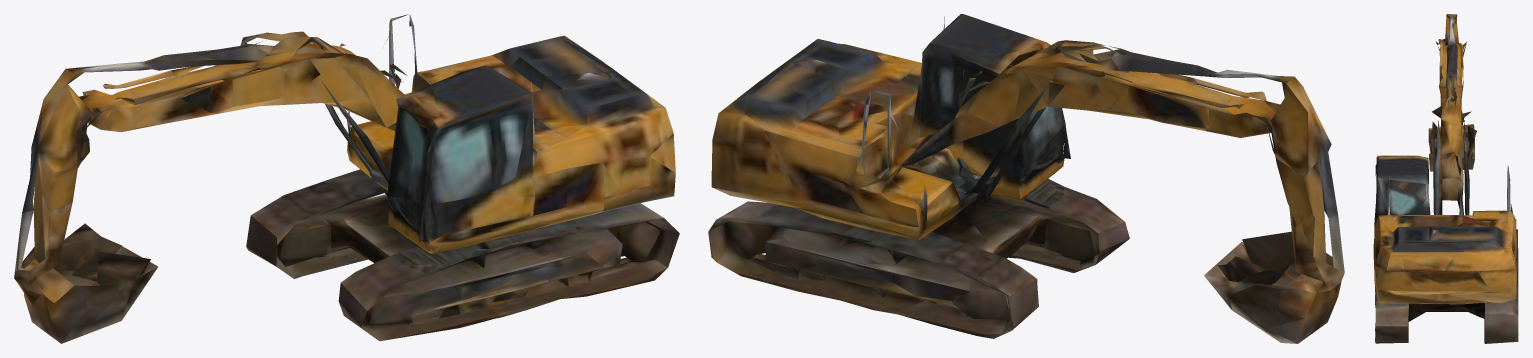
The model's file is excavator_lod2.glb.
The picture shows the model from 3 angles, left to right: view 1: azimuth 30°, elevation 25°; view 2: azimuth 150°, elevation 25°; view 3: azimuth 270°, elevation 25°; orthographic projection. The views are drawn at different scales.
Visible parts, largest first — view 1: tripo_node_a69ff4cf-9874-4e80-a3fe-69f23f4f8a40; view 2: tripo_node_a69ff4cf-9874-4e80-a3fe-69f23f4f8a40; view 3: tripo_node_a69ff4cf-9874-4e80-a3fe-69f23f4f8a40.
Part boxes in pixels (x1,y1,x2,y2): tripo_node_a69ff4cf-9874-4e80-a3fe-69f23f4f8a40: (14,14,679,343); tripo_node_a69ff4cf-9874-4e80-a3fe-69f23f4f8a40: (708,14,1344,343); tripo_node_a69ff4cf-9874-4e80-a3fe-69f23f4f8a40: (1373,14,1518,343).
Bounding box in the file's own units: 0.9982 × 0.4562 × 0.3409.
1 material, 1 textured.
